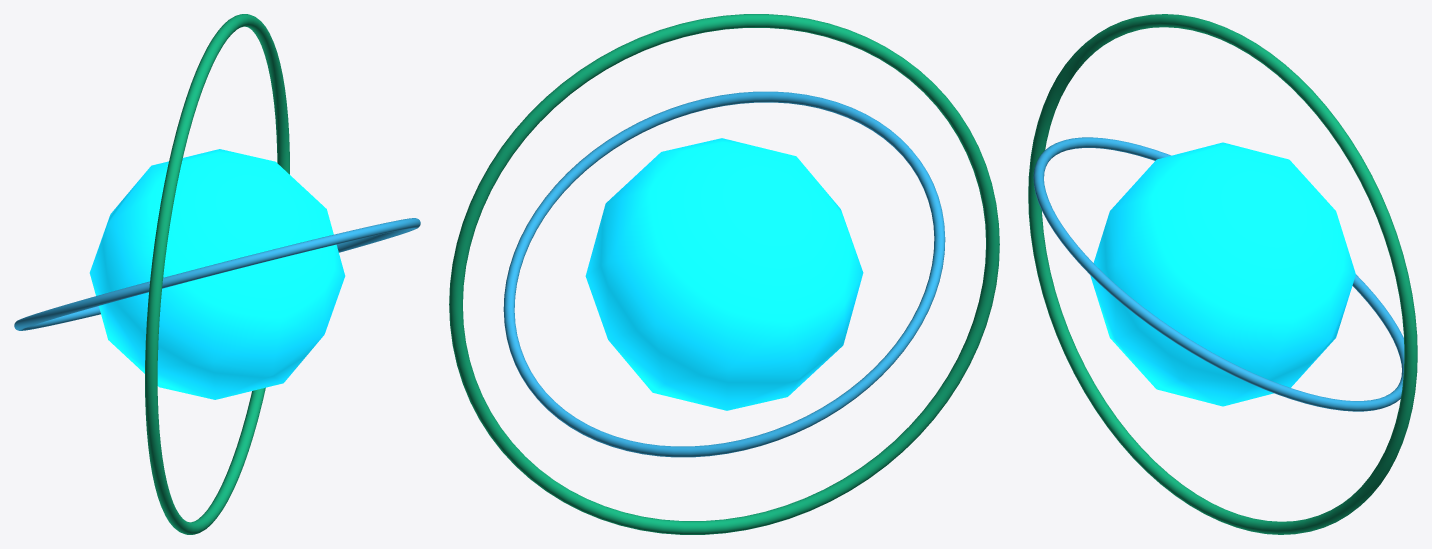
Rendered from security-core.glb.
The picture shows the model from 3 angles, left to right: view 1: azimuth 30°, elevation 25°; view 2: azimuth 150°, elevation 25°; view 3: azimuth 270°, elevation 25°; orthographic projection. The views are drawn at different scales.
Visible parts, largest first — view 1: CentralGem, GimbalRing2, GimbalRing1; view 2: CentralGem, GimbalRing2, GimbalRing1; view 3: CentralGem, GimbalRing2, GimbalRing1.
Part boxes in pixels (box(x1,y1,x2,y2)): CentralGem: box(89, 149, 345, 399); GimbalRing2: box(145, 14, 289, 534); GimbalRing1: box(14, 218, 420, 330); CentralGem: box(585, 138, 863, 410); GimbalRing2: box(449, 14, 999, 534); GimbalRing1: box(503, 91, 945, 457); CentralGem: box(1090, 142, 1355, 406); GimbalRing2: box(1028, 14, 1417, 534); GimbalRing1: box(1033, 137, 1404, 411).
Bounding box in the file's own units: 3.28 × 4.1 × 2.93.
